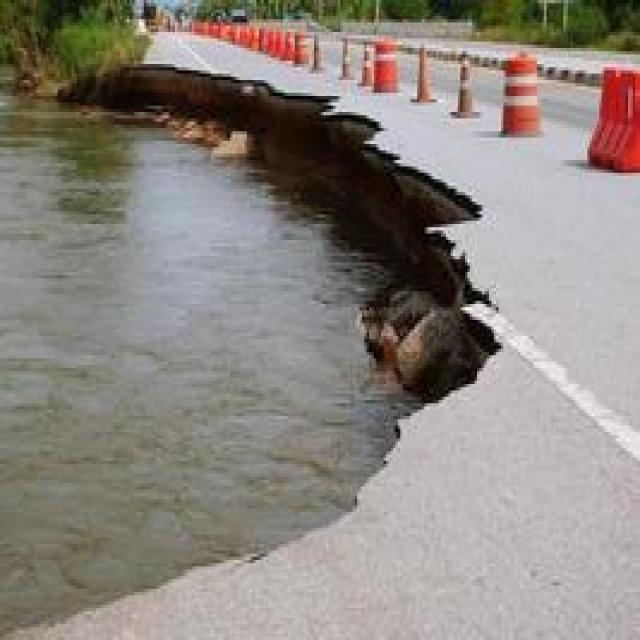road collapse: (0, 13, 547, 640)
